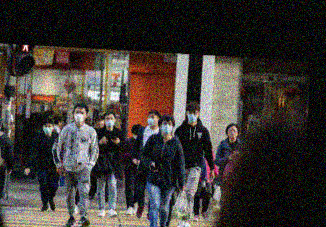with_mask: (72, 109, 85, 123), (159, 120, 172, 134), (145, 113, 157, 127), (103, 115, 115, 128), (185, 109, 197, 122), (41, 123, 51, 135)
without_mask: (226, 127, 237, 139), (93, 121, 104, 129)
